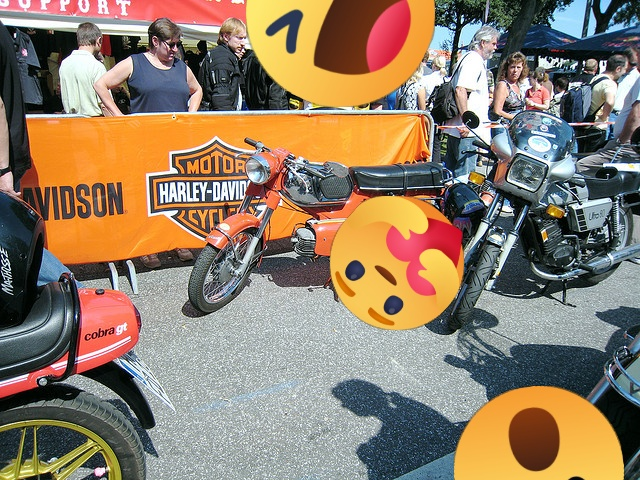care: (330, 196, 464, 330)
haha: (246, 0, 435, 107)
wow: (454, 386, 624, 480)
